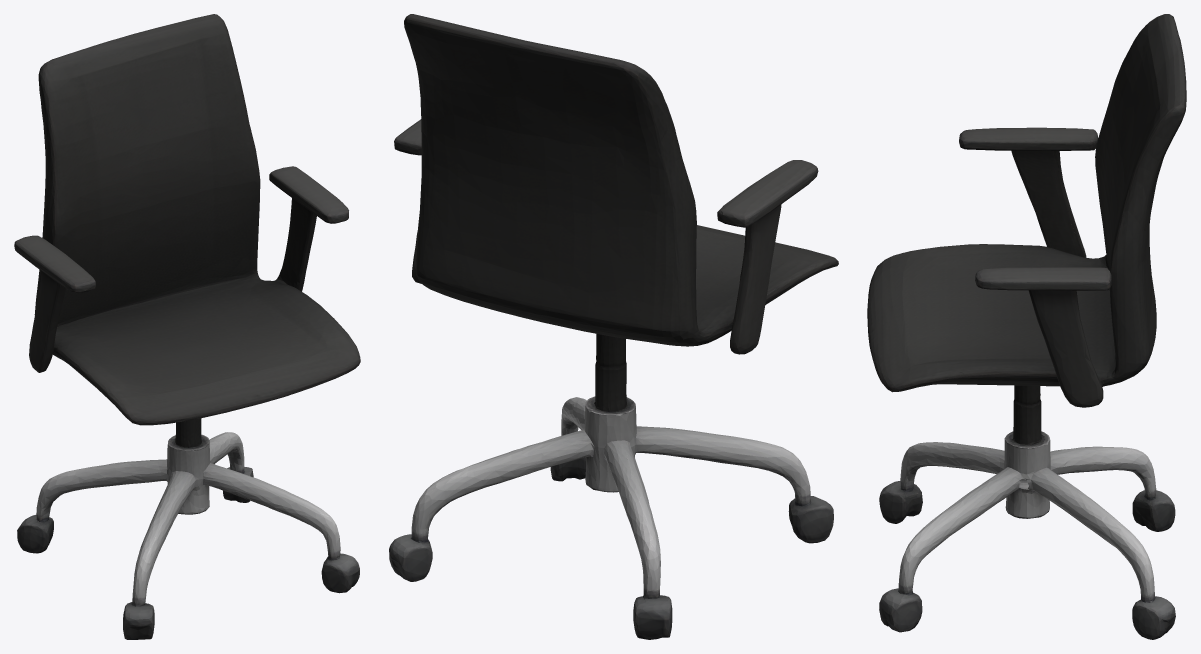
3 views of the same model, side by side, from view 1: azimuth 30°, elevation 25°; view 2: azimuth 150°, elevation 25°; view 3: azimuth 270°, elevation 25° (orthographic). The views are drawn at different scales.
Visible parts, largest first — view 1: world; view 2: world; view 3: world.
Part boxes in pixels (box(x1,y1,x2,y2)): world: box(14, 14, 360, 639); world: box(389, 14, 838, 639); world: box(867, 14, 1186, 639).
Size of the model in its own units: 0.6365 by 1 by 0.5539.
Materials: 1 (1 with a texture image).
